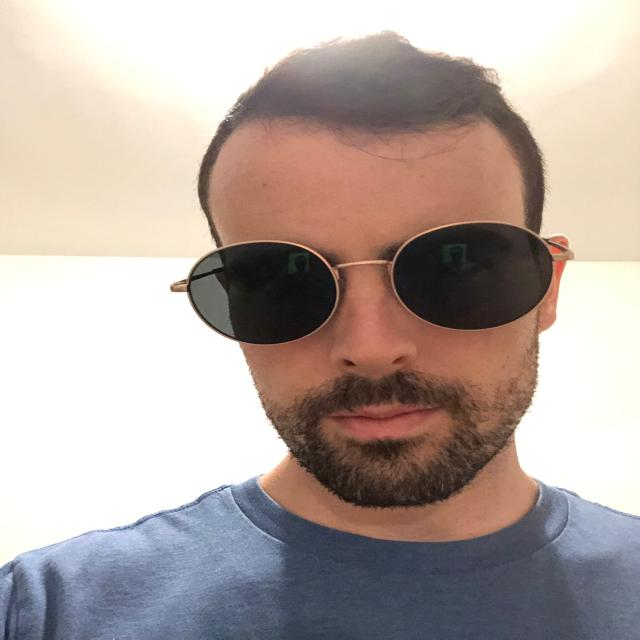2_gafas: (169, 220, 574, 346)
